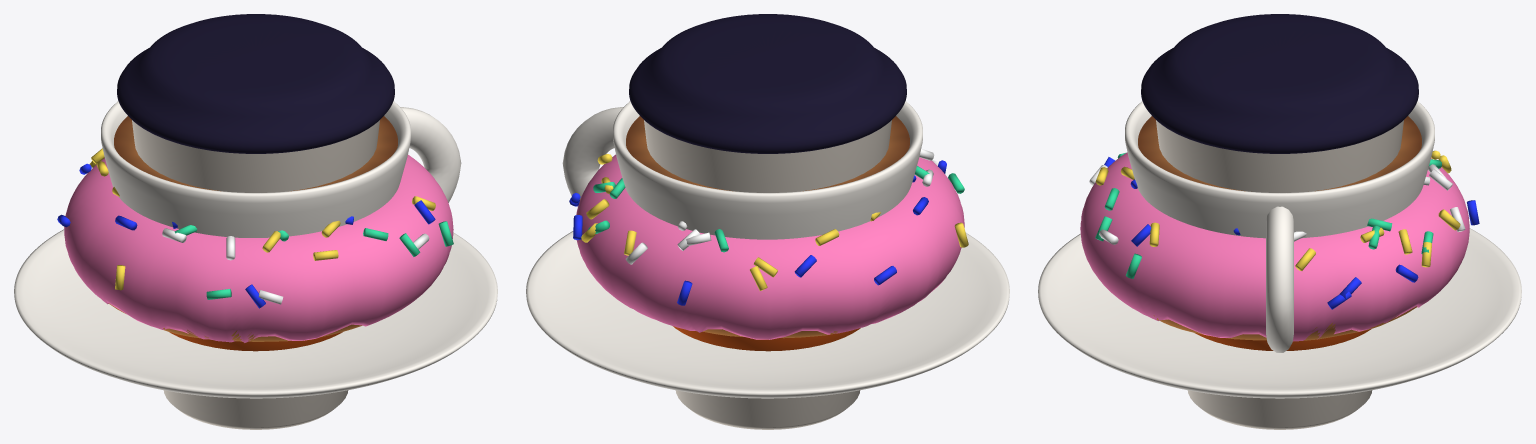
File: wobble.glb
3 renders of one model, left to right at view 1: azimuth 30°, elevation 25°; view 2: azimuth 150°, elevation 25°; view 3: azimuth 270°, elevation 25°, orthographic.
Visible parts, largest first — view 1: cup, takeaway, donut; view 2: cup, takeaway, donut; view 3: cup, takeaway, donut.
Boxes of the visible parts, <box> form: cup: <box>14,101,497,398</box>; takeaway: <box>117,14,394,429</box>; donut: <box>57,148,453,342</box>; cup: <box>526,101,1009,398</box>; takeaway: <box>629,14,906,429</box>; donut: <box>569,149,968,339</box>; cup: <box>1038,101,1521,398</box>; takeaway: <box>1141,14,1418,429</box>; donut: <box>1080,150,1479,341</box>.
Size of the model in its own units: 3.45 by 2.66 by 3.45.
Materials: 12 (1 with a texture image).
